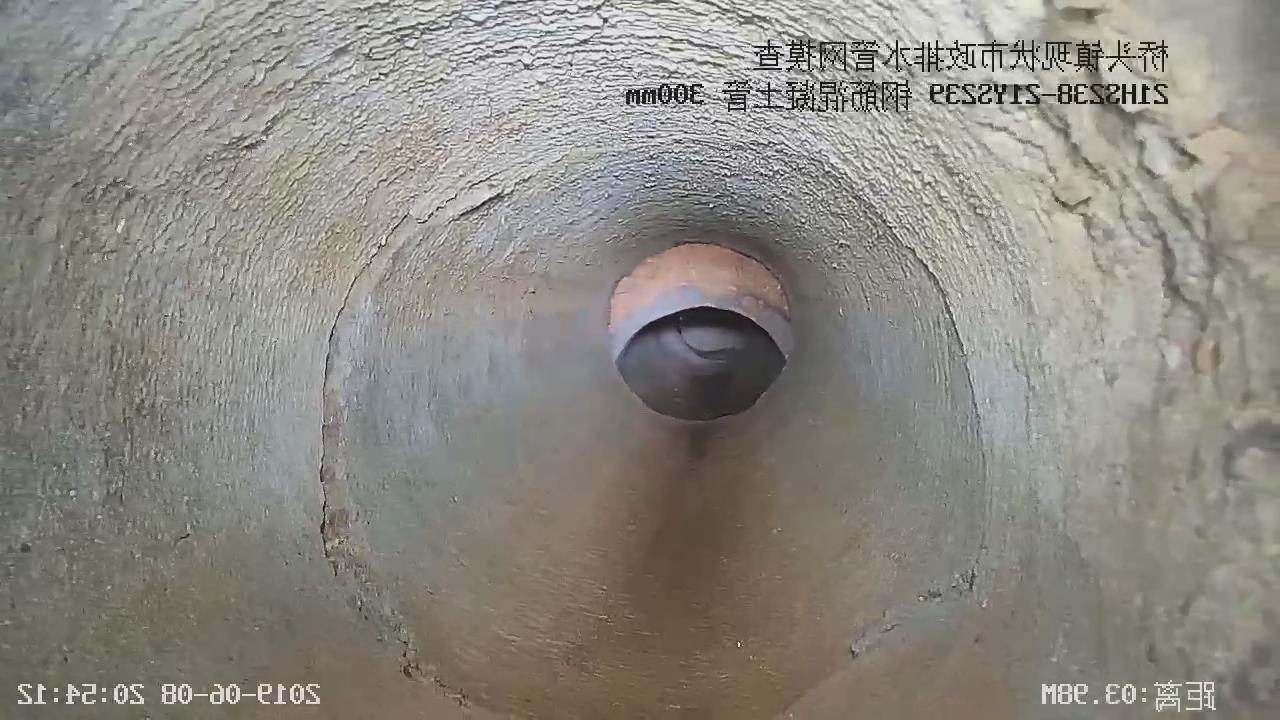CKTJ: (609, 244, 795, 367)
